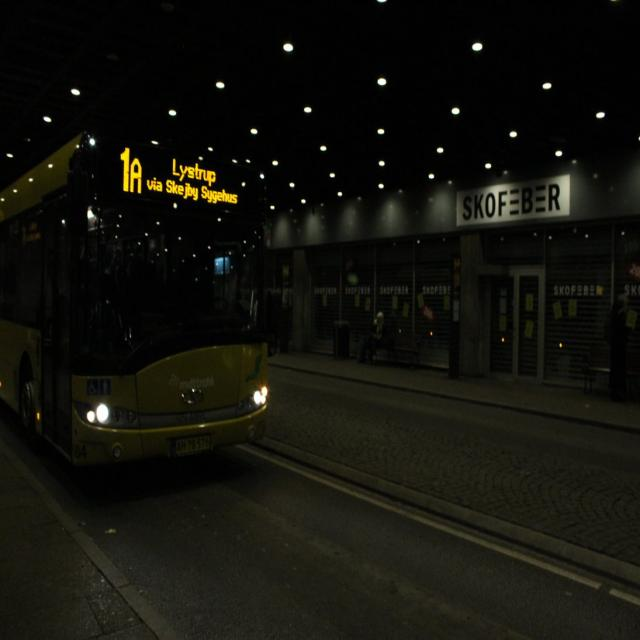Bus: (0, 114, 276, 502)
People: (369, 310, 395, 364)
chair: (578, 333, 638, 408), (379, 318, 429, 382)
